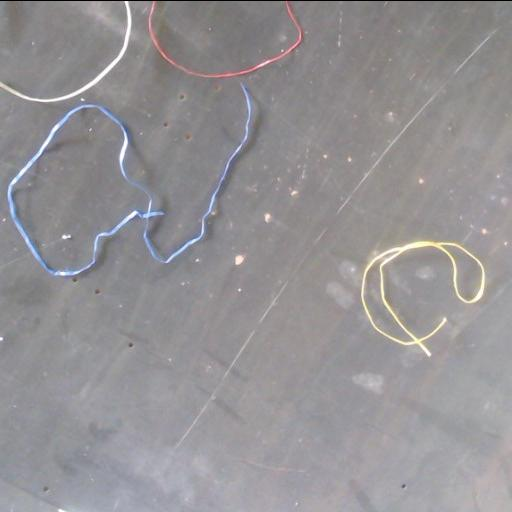conveyor belt: (0, 1, 511, 512), (14, 108, 146, 269), (0, 1, 125, 96), (155, 1, 295, 70)
thread: (7, 84, 251, 276), (361, 240, 485, 356), (0, 1, 132, 102), (148, 1, 303, 77)
